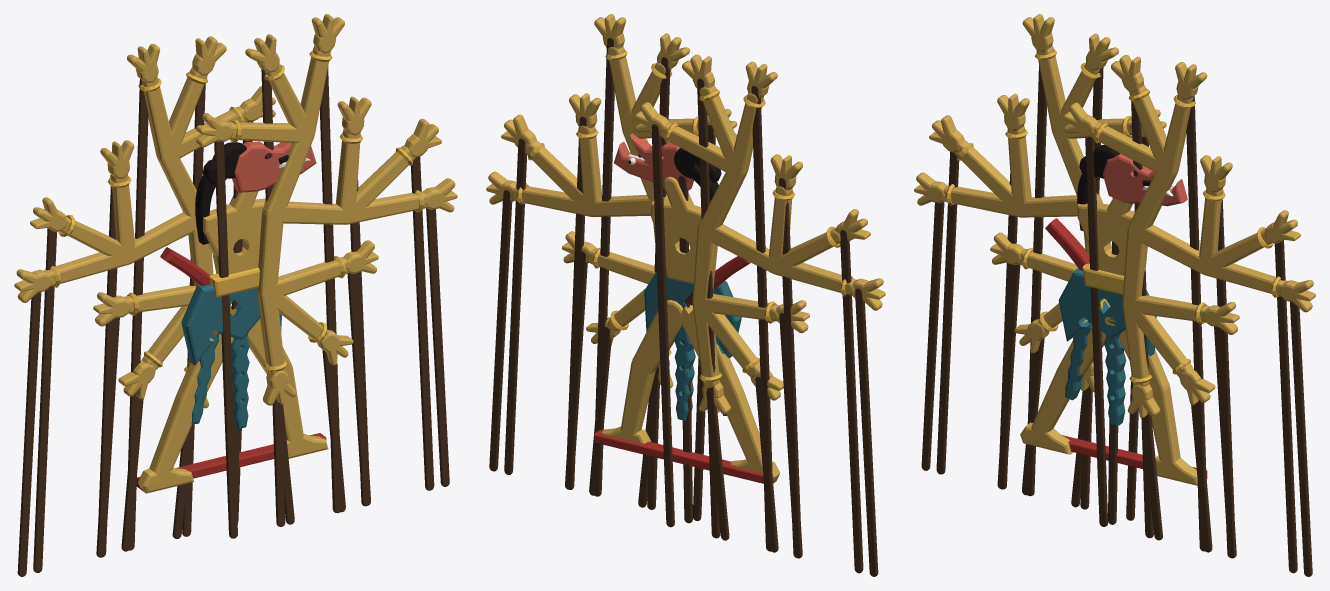
The model's file is cakil.glb.
The picture shows the model from 3 angles, left to right: view 1: azimuth 30°, elevation 25°; view 2: azimuth 150°, elevation 25°; view 3: azimuth 330°, elevation 25°; orthographic projection. The views are drawn at different scales.
Parts seen in each view (by area): view 1: body, front_20, back_20, back_10, front_10, front_22, front_11, back_11, front_00, back_12, front_02, front_12 (+8 smaller); view 2: body, back_20, back_10, back_22, front_10, front_20, front_11, back_11, back_00, back_21, back_12, front_02 (+8 smaller); view 3: body, front_20, front_10, back_10, back_20, front_22, back_11, front_11, front_00, front_12, back_02, front_21 (+8 smaller).
Boxes of the visible parts, <box> form: body: <box>136,175,328,530</box>; front_20: <box>262,14,344,513</box>; back_20: <box>127,43,196,550</box>; back_10: <box>14,212,196,576</box>; front_10: <box>262,178,457,486</box>; front_22: <box>196,113,301,538</box>; front_11: <box>345,118,441,490</box>; back_11: <box>30,197,131,572</box>; front_00: <box>257,207,296,524</box>; back_12: <box>98,140,135,556</box>; front_02: <box>258,240,378,505</box>; front_12: <box>335,96,371,506</box>; body: <box>594,163,779,523</box>; back_20: <box>698,61,777,551</box>; back_10: <box>698,224,885,576</box>; back_22: <box>634,102,743,527</box>; front_10: <box>486,171,653,471</box>; front_20: <box>594,14,668,496</box>; front_11: <box>501,114,593,474</box>; back_11: <box>772,209,870,573</box>; back_00: <box>692,226,730,540</box>; back_21: <box>682,54,746,538</box>; back_12: <box>768,154,802,557</box>; front_02: <box>562,231,655,489</box>; body: <box>1020,173,1207,524</box>; front_20: <box>1128,62,1207,551</box>; front_10: <box>1133,224,1315,576</box>; back_10: <box>914,172,1102,470</box>; back_20: <box>1022,14,1102,496</box>; front_22: <box>1063,102,1173,526</box>; back_11: <box>929,115,1021,474</box>; front_11: <box>1203,210,1300,573</box>; front_00: <box>1122,225,1162,540</box>; front_12: <box>1199,155,1234,557</box>; back_02: <box>990,232,1077,488</box>; front_21: <box>1111,54,1174,538</box>.
Size of the model in its own units: 1.14 by 1.29 by 0.1187.
